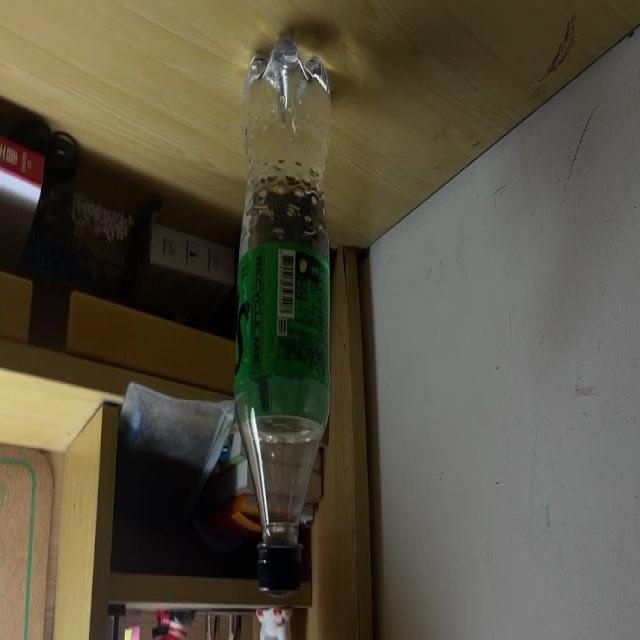Sprite: (234, 26, 331, 594)
